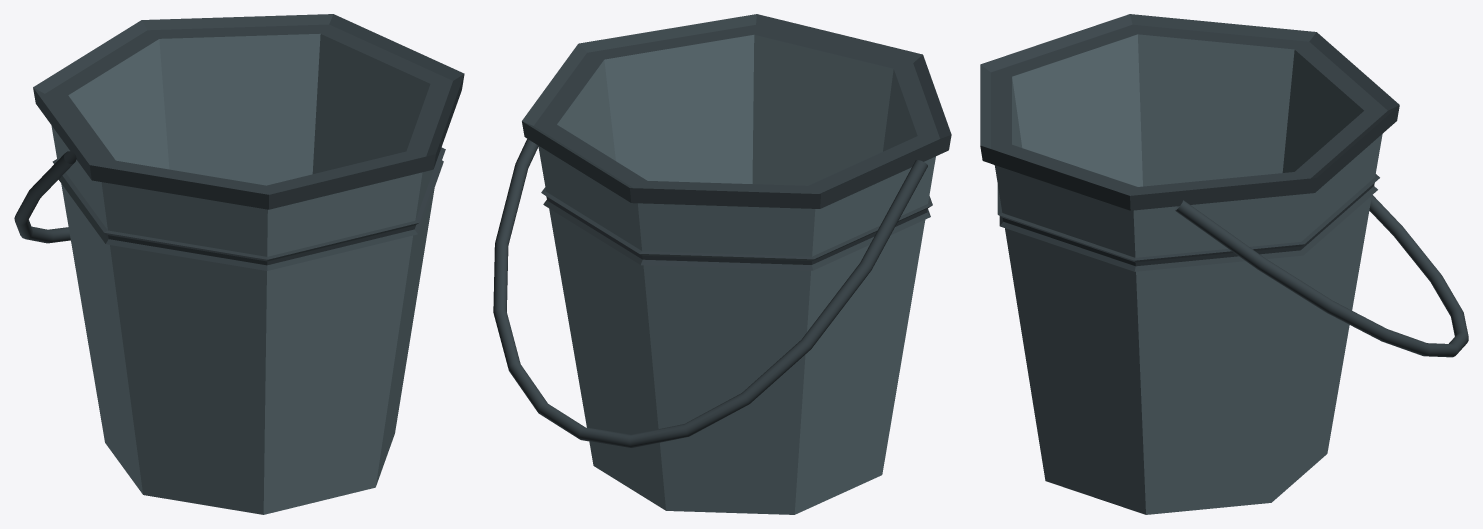
File: Paint.fbx
3 renders of one model, left to right at view 1: azimuth 30°, elevation 25°; view 2: azimuth 150°, elevation 25°; view 3: azimuth 270°, elevation 25°, orthographic.
Visible parts, largest first — view 1: Cylinder, BezierCurve; view 2: Cylinder, BezierCurve; view 3: Cylinder, BezierCurve.
Boxes of the visible parts, left/top/right/bottom form: Cylinder: left=33, top=14, right=464, bottom=514; BezierCurve: left=14, top=151, right=76, bottom=243; Cylinder: left=522, top=14, right=951, bottom=514; BezierCurve: left=493, top=139, right=927, bottom=448; Cylinder: left=980, top=14, right=1399, bottom=514; BezierCurve: left=1175, top=195, right=1468, bottom=357.
Bounding box in the file's own units: 126 × 112 × 143.
1 material, 1 textured.
